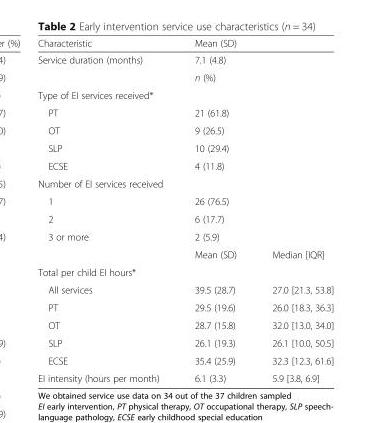table: (37, 37, 333, 383)
table column: (37, 37, 176, 383), (253, 37, 333, 383), (176, 37, 253, 383)
table column header: (37, 37, 333, 51)
table projected row header: (37, 85, 333, 103), (37, 174, 333, 192), (37, 262, 333, 280)
table row: (37, 85, 333, 103), (37, 103, 333, 121), (37, 121, 333, 139), (37, 156, 333, 174), (37, 174, 333, 192), (37, 209, 333, 227), (37, 227, 333, 245), (37, 262, 333, 280), (37, 280, 333, 298), (37, 298, 333, 316), (37, 333, 333, 351), (37, 351, 333, 369), (37, 51, 333, 68), (37, 68, 333, 85), (37, 139, 333, 156), (37, 192, 333, 209), (37, 245, 333, 262), (37, 316, 333, 333), (37, 37, 333, 51), (37, 369, 333, 383)
table spanning cell: (37, 227, 176, 262), (37, 51, 176, 85), (176, 103, 333, 121), (176, 121, 333, 139), (176, 156, 333, 174), (176, 209, 333, 227), (176, 227, 333, 245), (176, 51, 333, 68), (176, 68, 333, 85), (176, 139, 333, 156), (176, 192, 333, 209), (176, 37, 333, 51)
